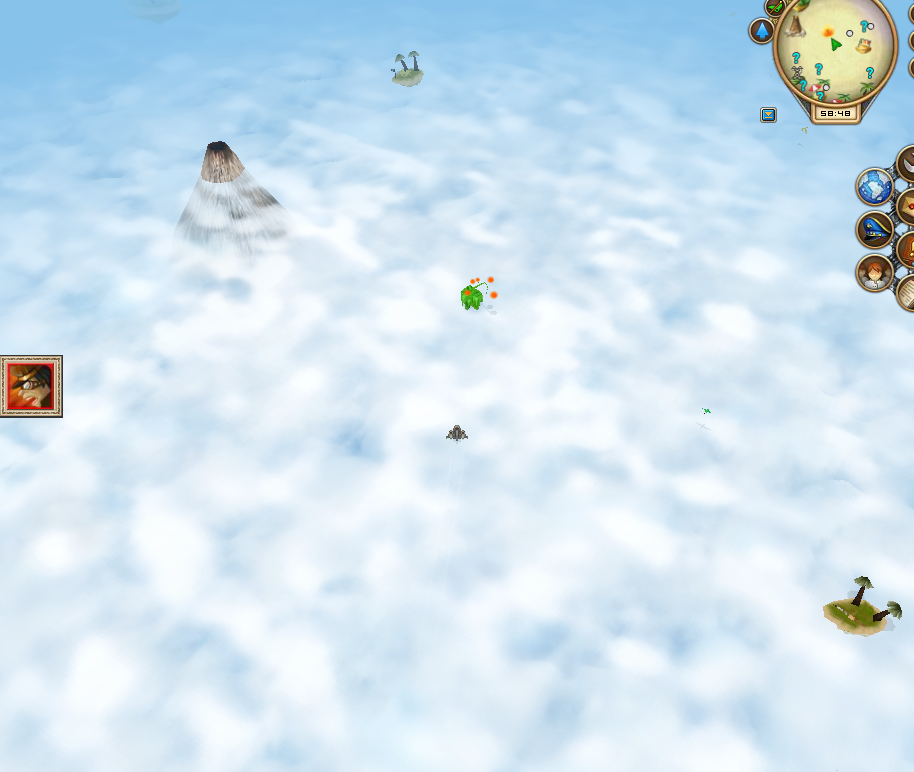dandelion-full: (452, 270, 501, 315)
